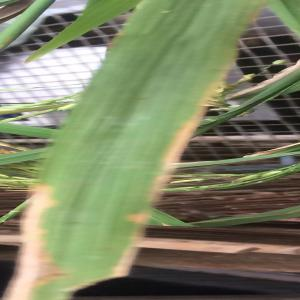Bacterial_Blight: (34, 46, 216, 295)
